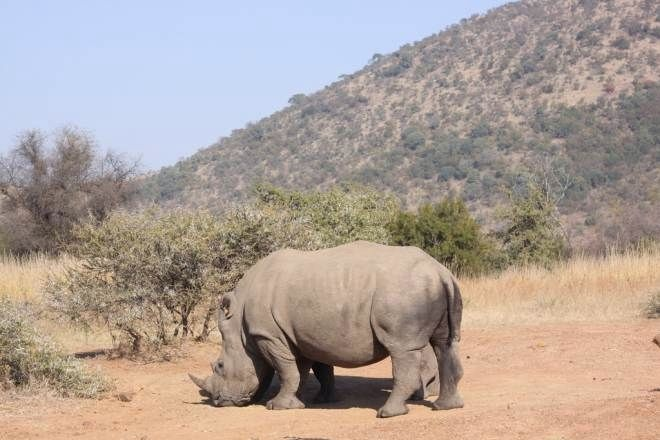zebra: (185, 237, 463, 419)
